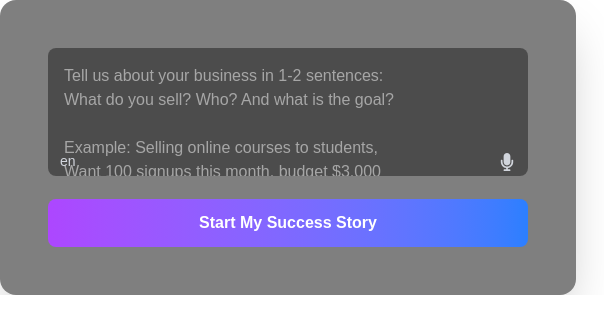
Test: CampaignBox › shows clear button when text is entered
Replace the text in the text box with "Test" at (288, 112), box [48,48,528,176]
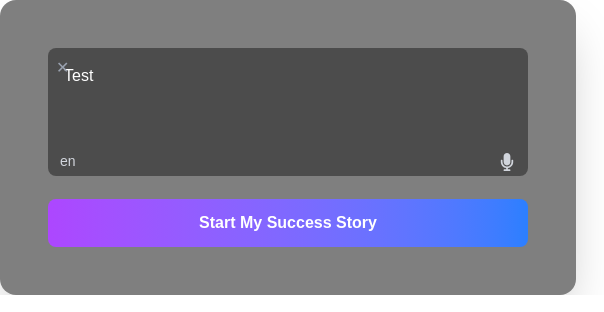
Result: the button "✕" is shown at [56,56,69,80]
